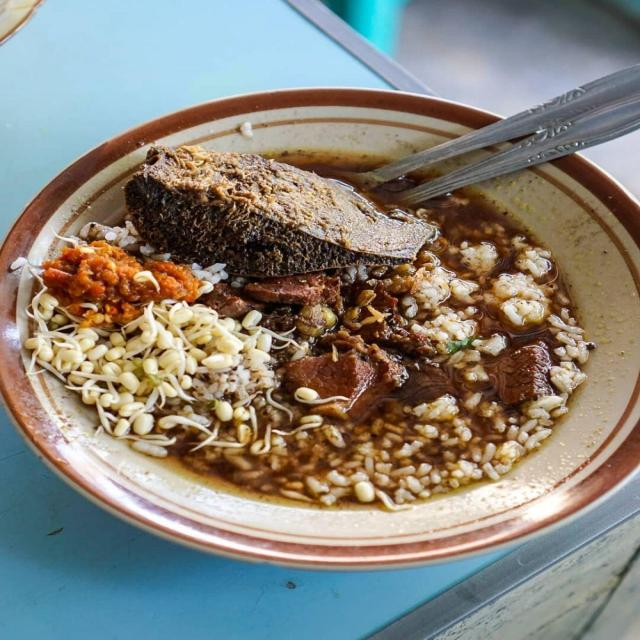Rawon: (73, 149, 590, 507)
